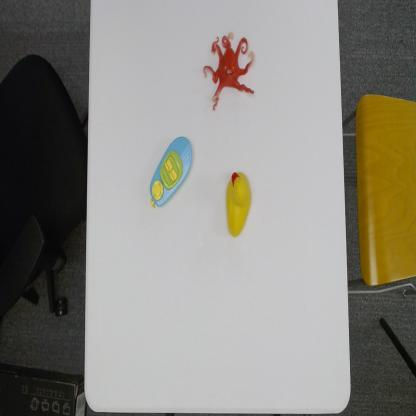Boat: (148, 134, 194, 212)
Duck: (224, 166, 252, 240)
Octopus: (202, 30, 256, 113)
